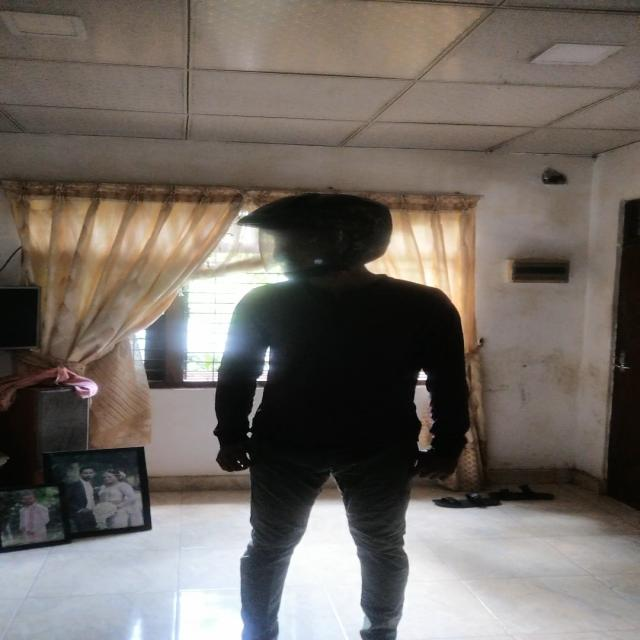Helmet_Wearer: (224, 194, 398, 278)
Person: (200, 187, 463, 640)
